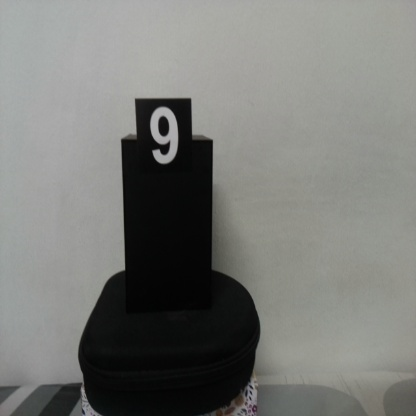id_9: (136, 100, 192, 184)
